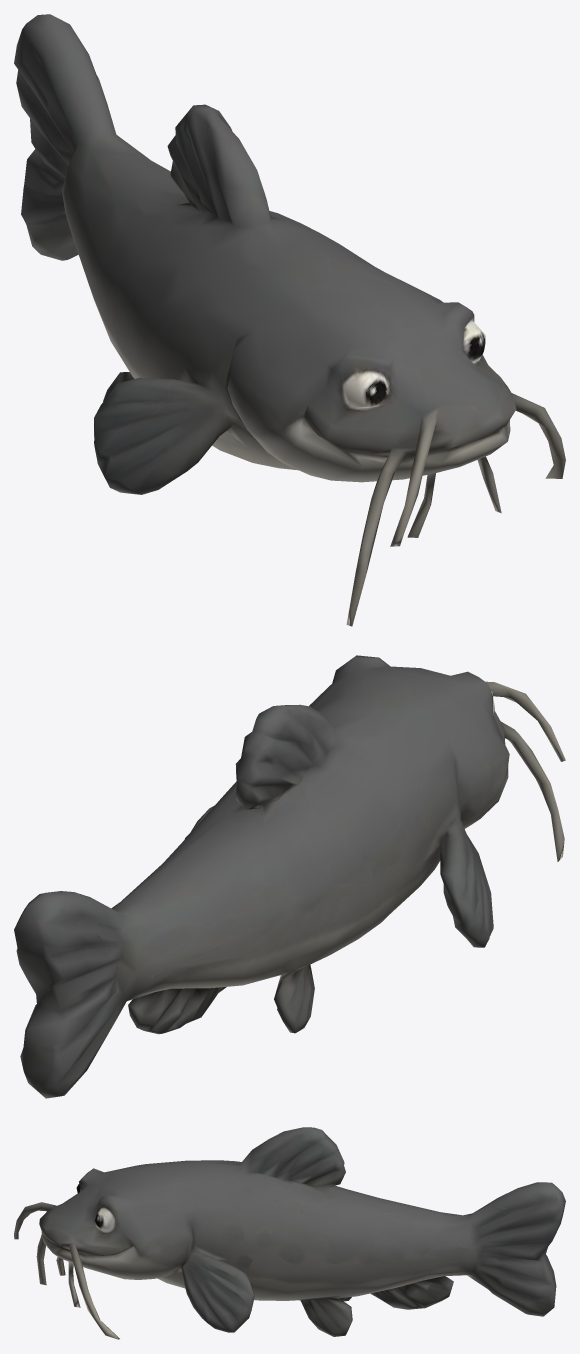
The model's file is fish-catfish.glb.
3 views of the same model, one above another, from view 1: azimuth 30°, elevation 25°; view 2: azimuth 150°, elevation 25°; view 3: azimuth 270°, elevation 25° (orthographic). The views are drawn at different scales.
Visible parts, largest first — view 1: tripo_node_1f75d625-d556-44bc-acd2-a0c98ef60fe5; view 2: tripo_node_1f75d625-d556-44bc-acd2-a0c98ef60fe5; view 3: tripo_node_1f75d625-d556-44bc-acd2-a0c98ef60fe5.
Part boxes in pixels (box(x1,y1,x2,y2)): tripo_node_1f75d625-d556-44bc-acd2-a0c98ef60fe5: box(14, 14, 565, 626); tripo_node_1f75d625-d556-44bc-acd2-a0c98ef60fe5: box(14, 655, 565, 1098); tripo_node_1f75d625-d556-44bc-acd2-a0c98ef60fe5: box(14, 1127, 565, 1339).
Bounding box in the file's own units: 0.419 × 0.383 × 1.
1 material, 1 textured.
